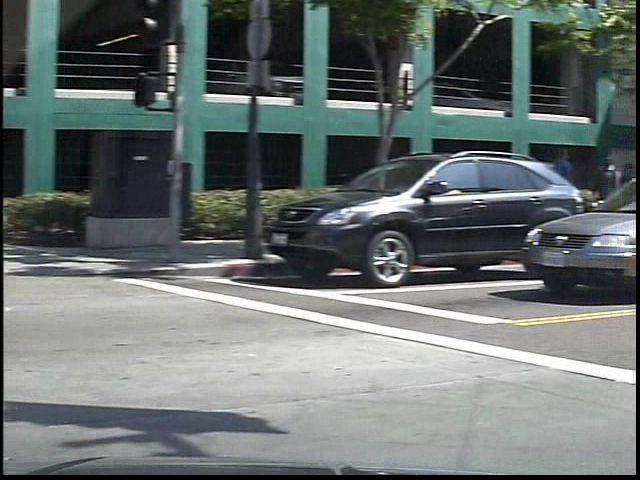person: (565, 145, 592, 175)
